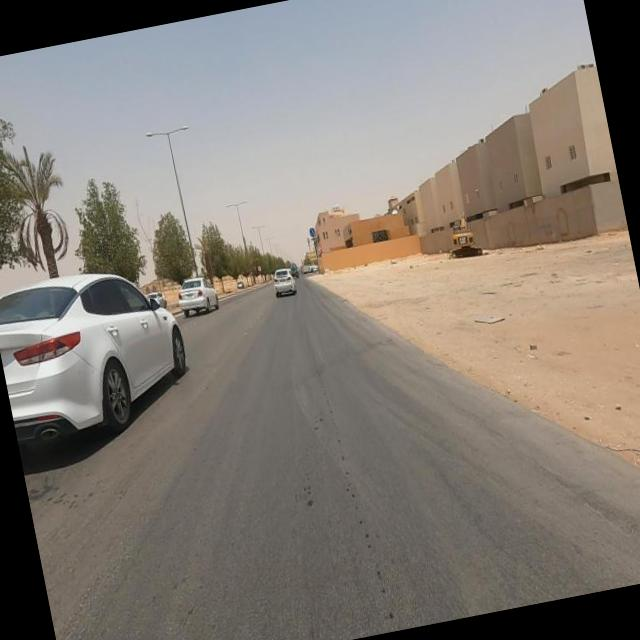debris: (442, 277, 534, 364), (508, 322, 556, 379)
